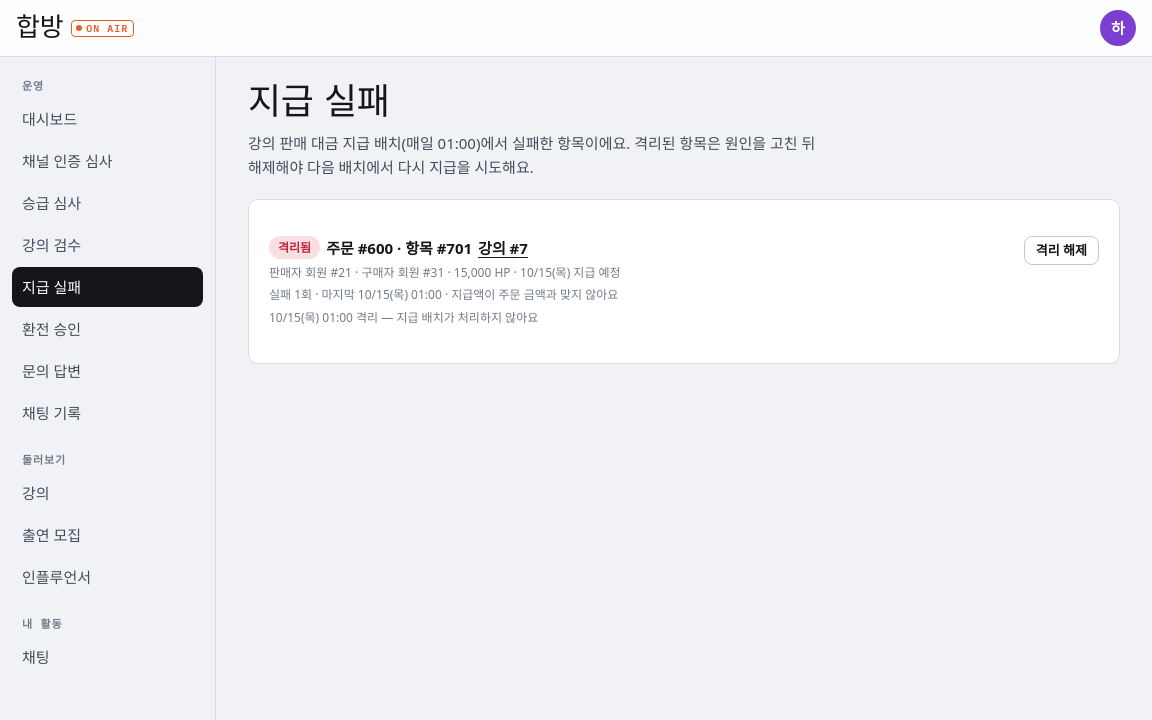
관리자 지급 실패 › 이미 해제됐으면(409) 안내하고 목록을 다시 불러온다
Click the button "격리 해제" at (1061, 250), box [1024,236,1099,265]
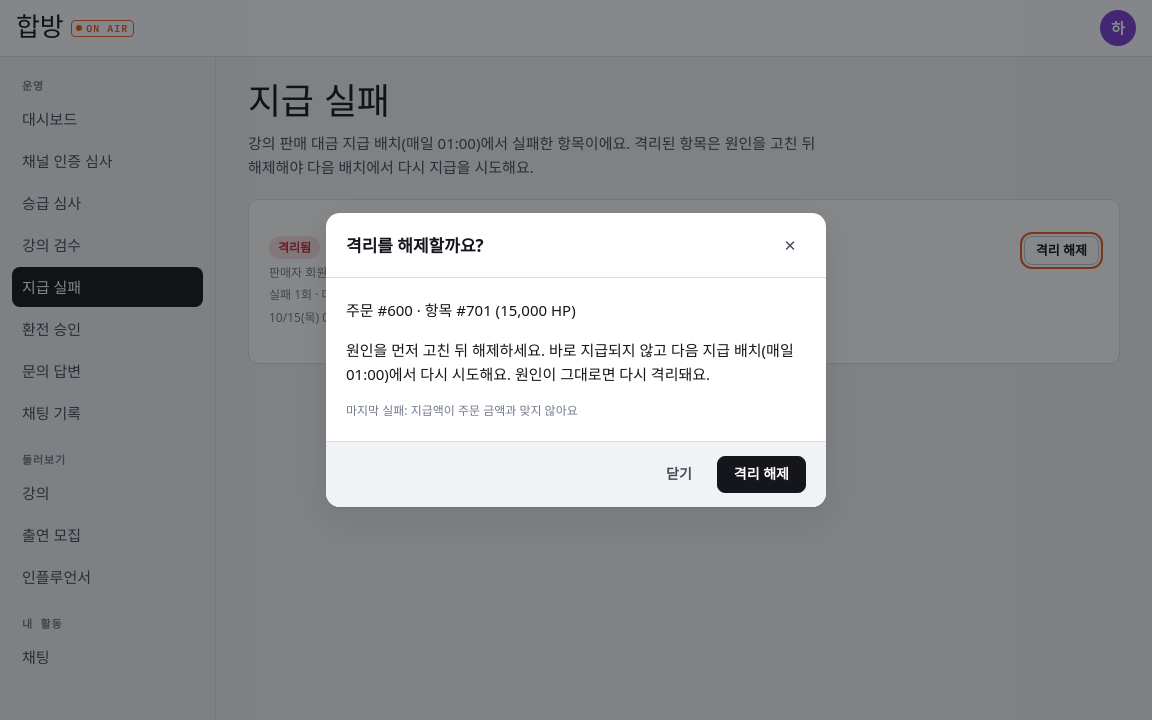
Click the button "격리 해제" at (761, 474), box [717,456,806,493]
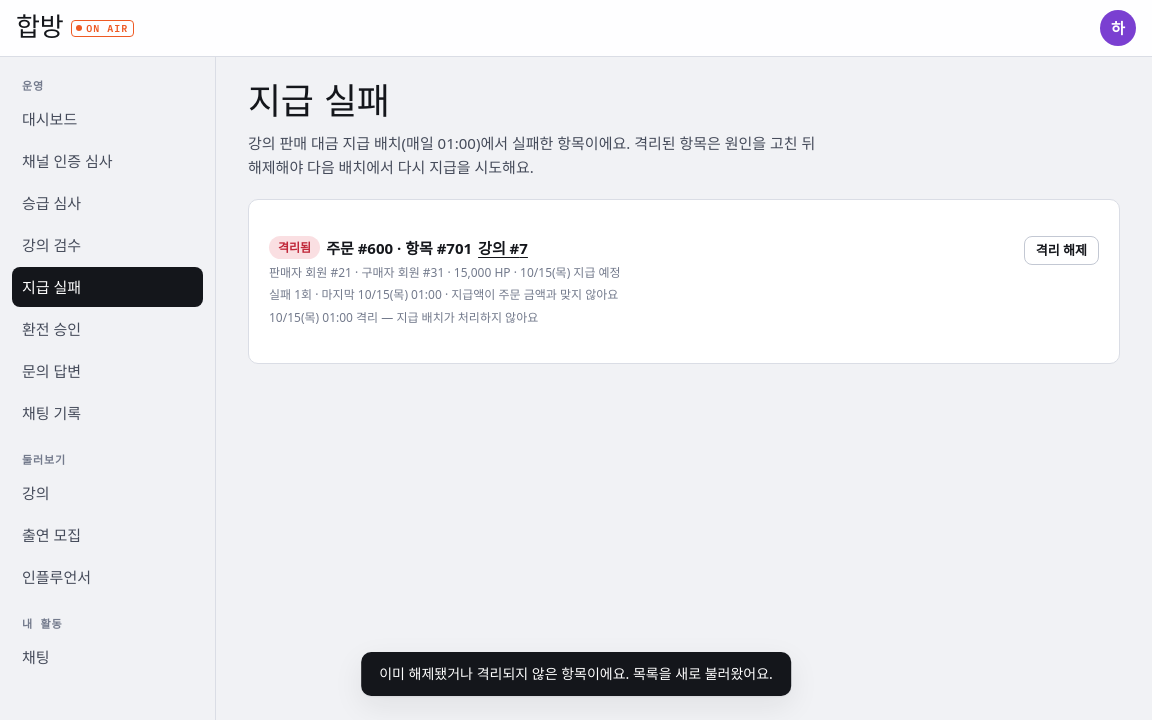
Now the text "이미 해제됐거나 격리되지 않은 항목이에요. 목록을 새로 불러왔어요." is shown, box [361,652,791,696]
Now the dialog is gone
